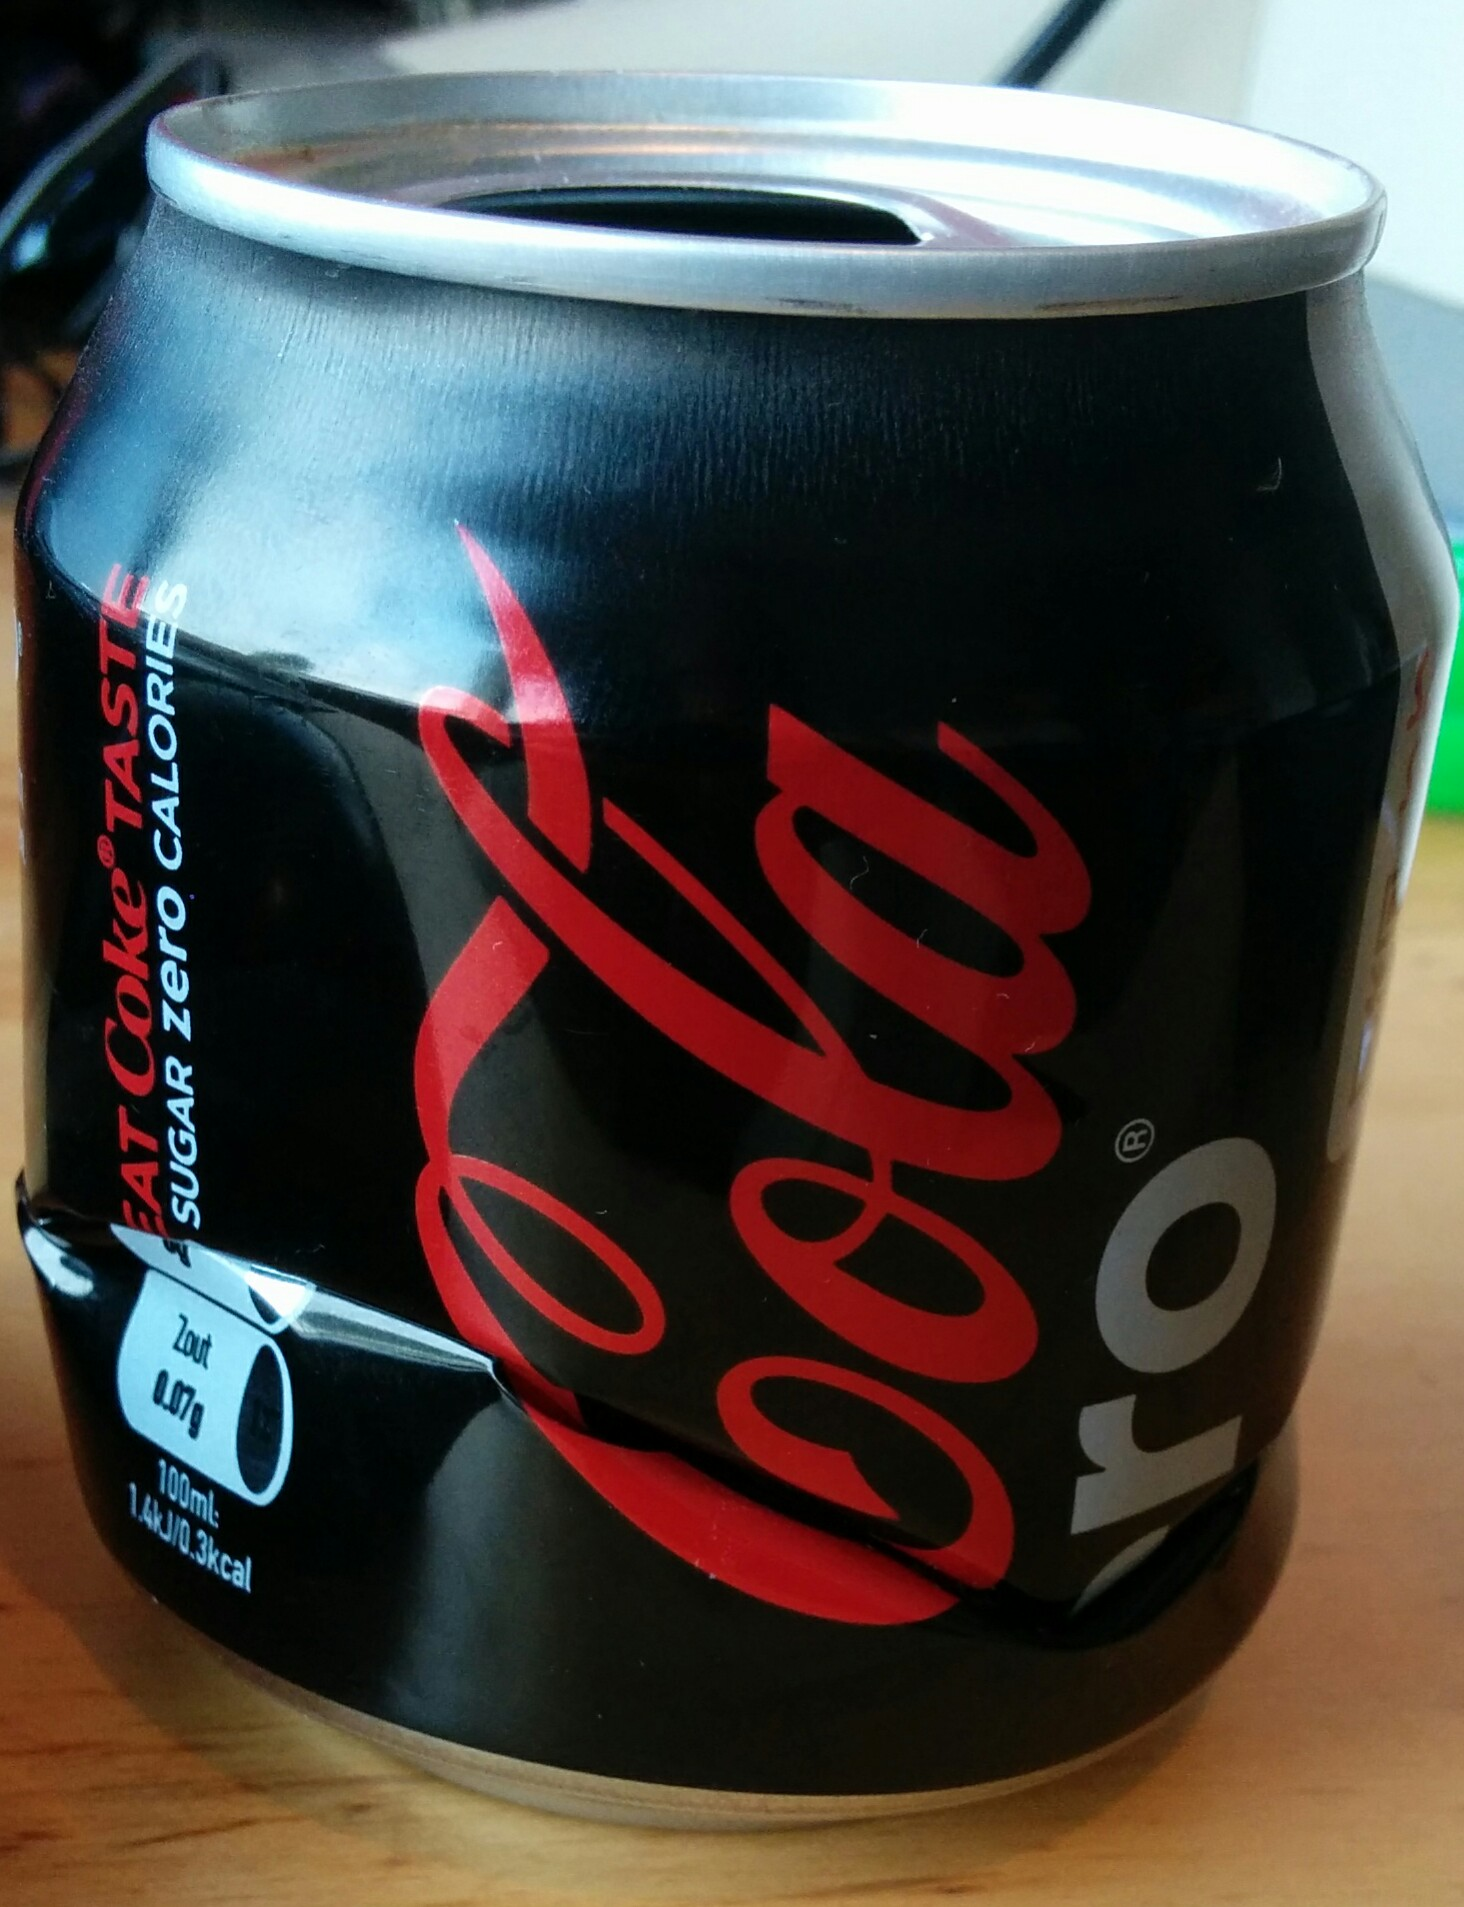can: (15, 68, 1456, 1839)
